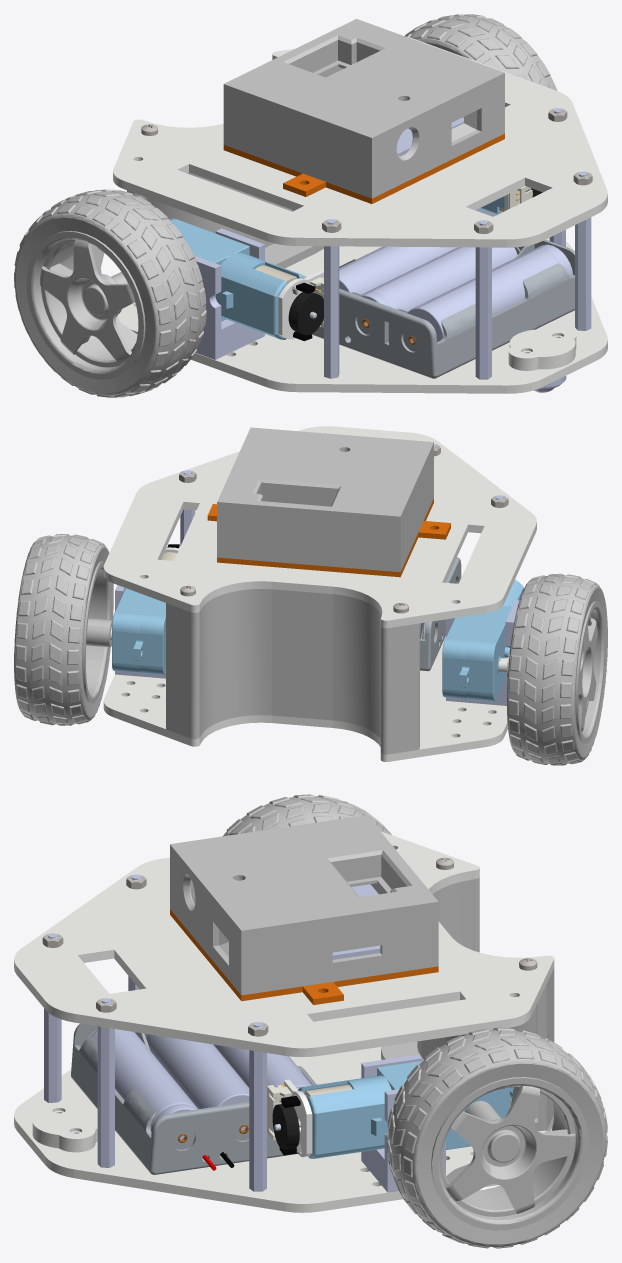
File: Robot_Soccer_ASSY.glb
3 views of the same model, one above another, from view 1: azimuth 30°, elevation 25°; view 2: azimuth 150°, elevation 25°; view 3: azimuth 270°, elevation 25° (orthographic). The views are drawn at different scales.
Parts seen in each view (by area): view 1: empty_2; view 2: empty_2; view 3: empty_2.
Boxes of the visible parts, x1=… form: empty_2: x1=14, y1=14, x2=607, y2=397; empty_2: x1=14, y1=426, x2=607, y2=765; empty_2: x1=14, y1=794, x2=607, y2=1248.
Size of the model in its own units: 0.2138 by 0.0902 by 0.1833.
1 material, 1 textured.
